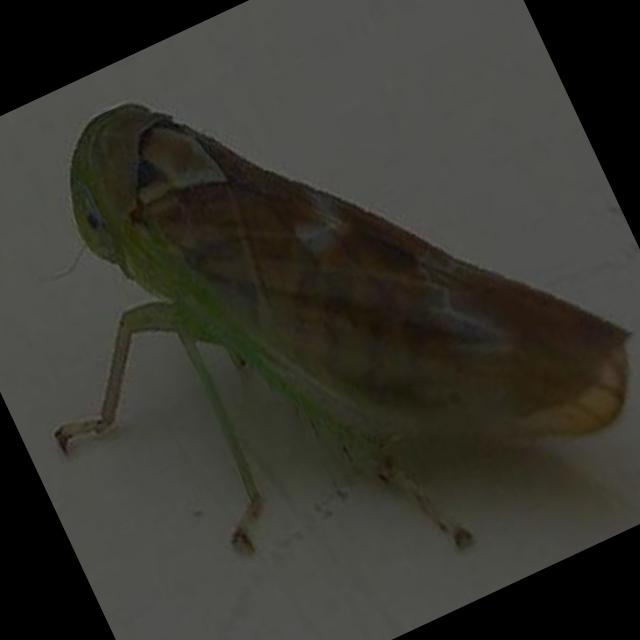green-leafhopper: (21, 0, 640, 605)
